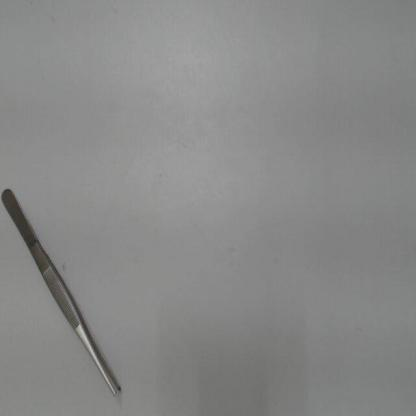Gillies Toothed Dissector: (0, 174, 126, 403)
